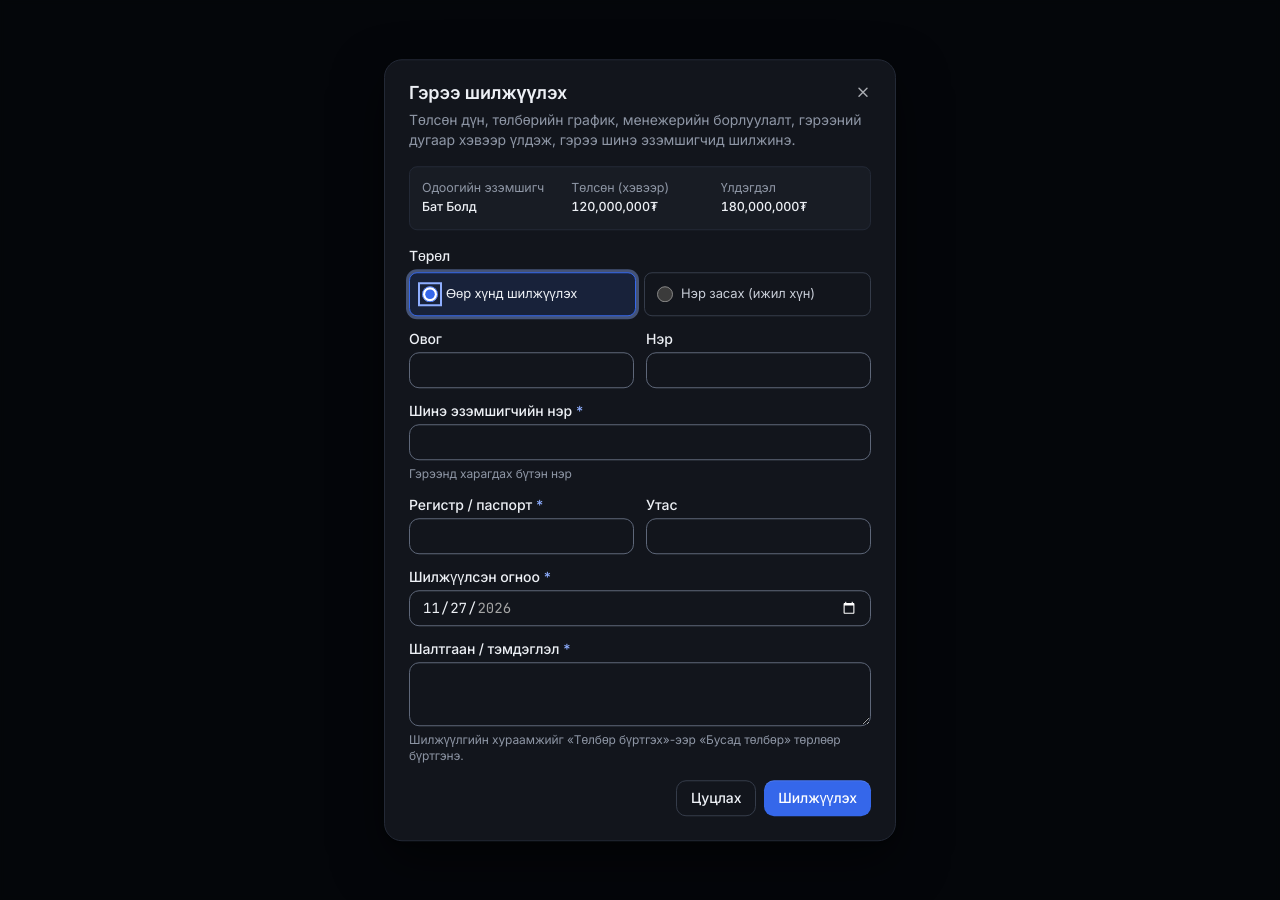
Test: ContractTransferDialog › does not allow a date before the latest holder change
Type "Дорж Сараа" into the field labelled "Шинэ эзэмшигчийн нэр *" at (640, 442), box x1=409 y1=424 x2=871 y2=460
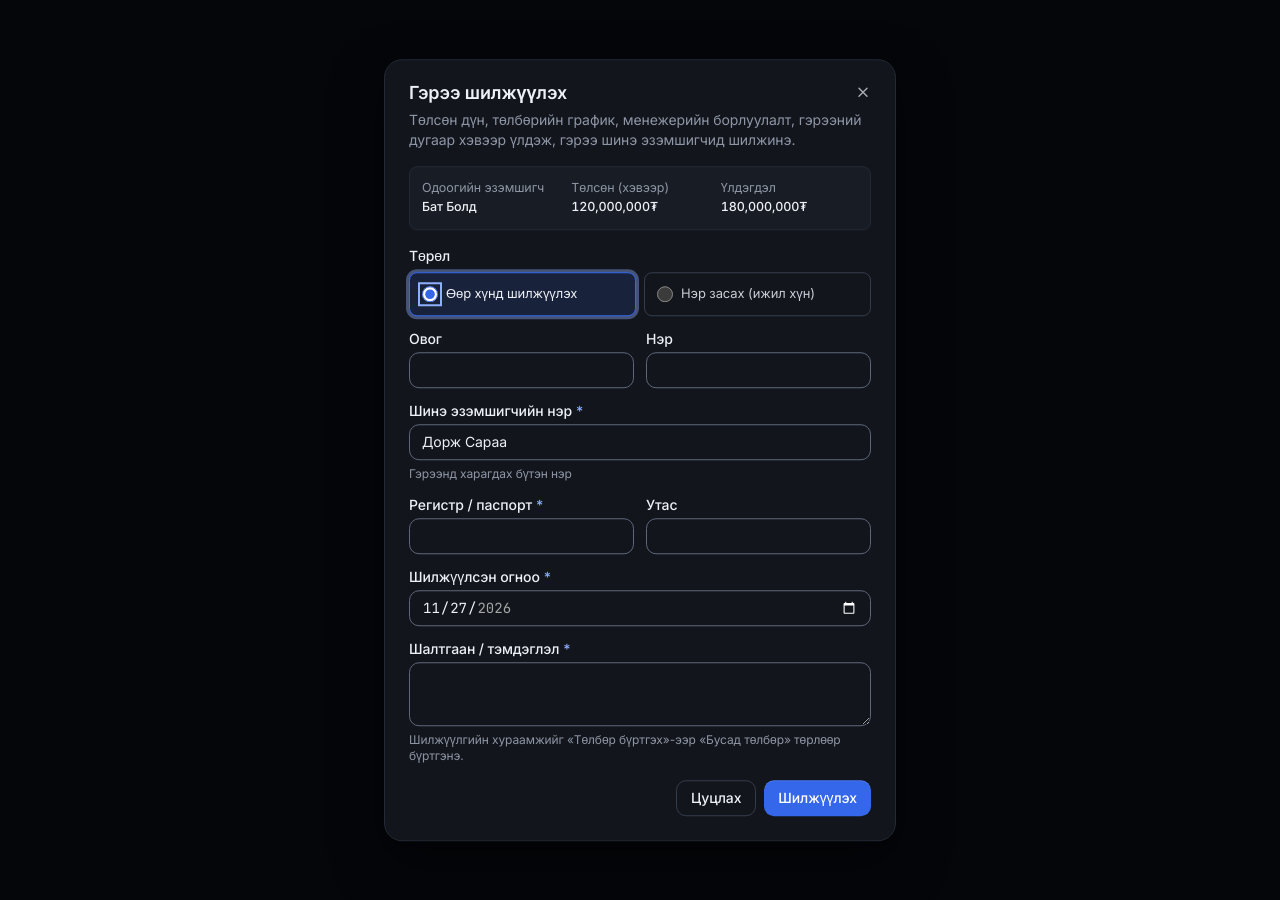
Type "чб88020202" into the field labelled "Регистр / паспорт *" at (522, 536), box x1=409 y1=518 x2=634 y2=554
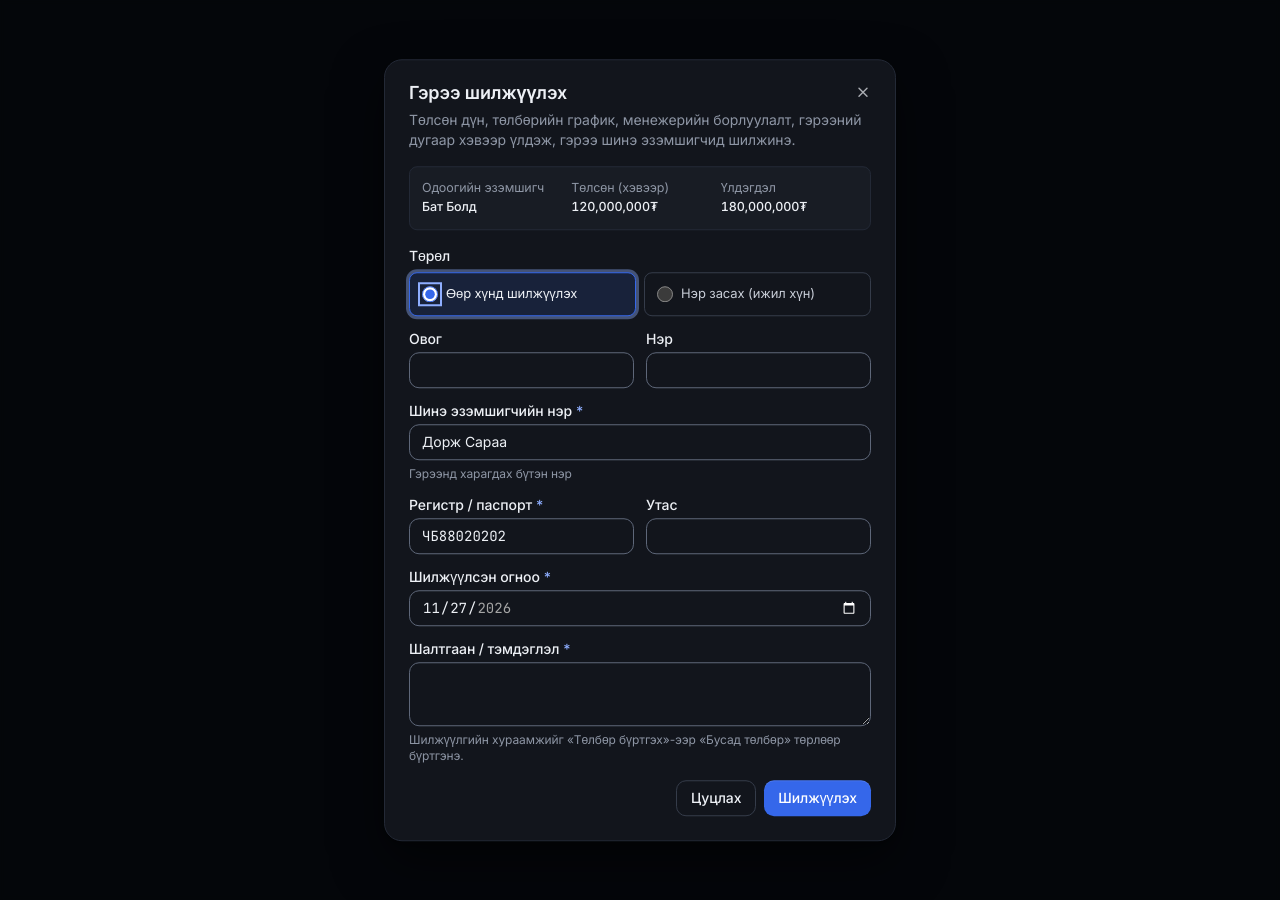
Type "Худалдсан" into the text box labelled "Шалтгаан / тэмдэглэл *" at (640, 694), box x1=409 y1=662 x2=871 y2=726
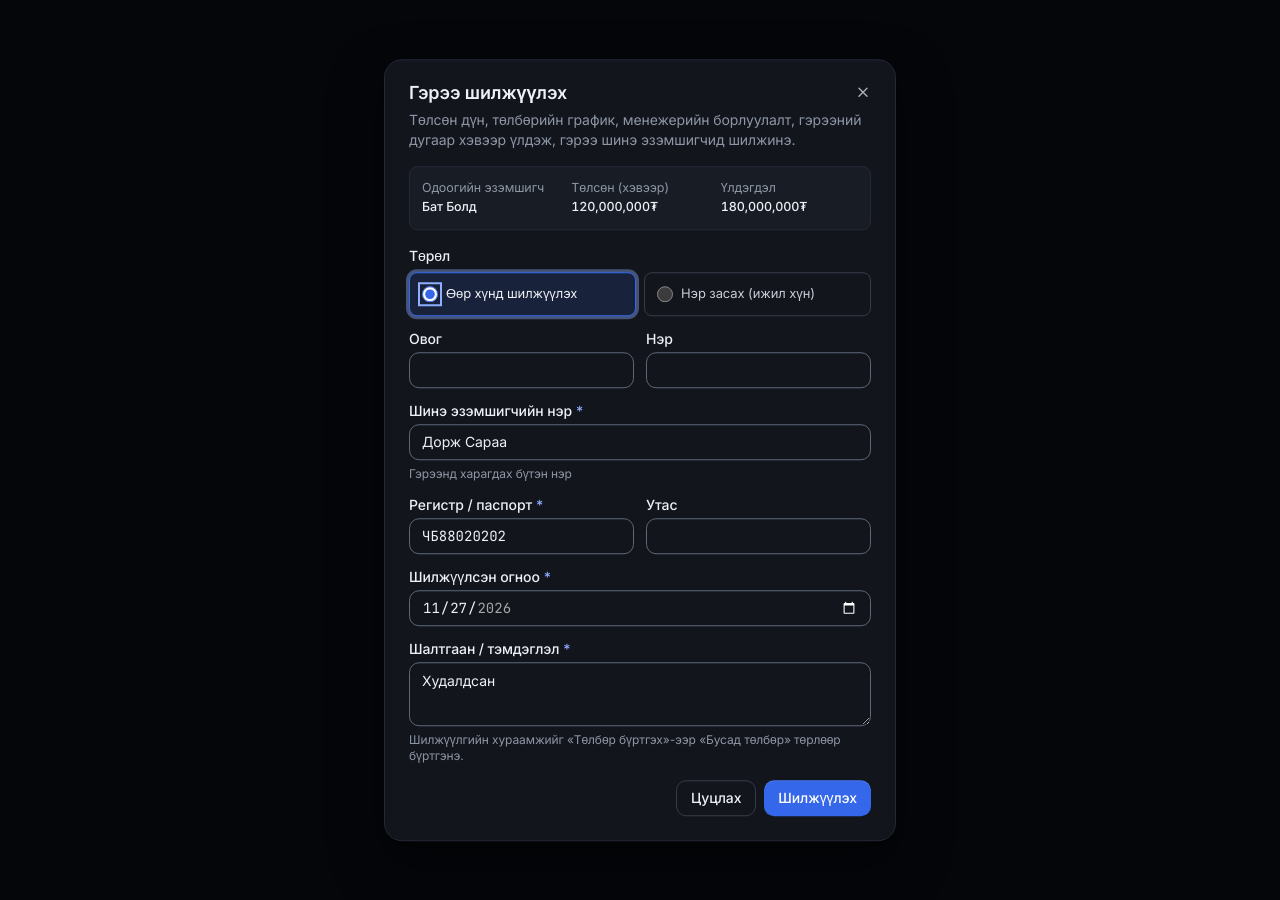
Type "2026-06-01" into the date field labelled "Шилжүүлсэн огноо *" at (640, 608), box x1=409 y1=590 x2=871 y2=626
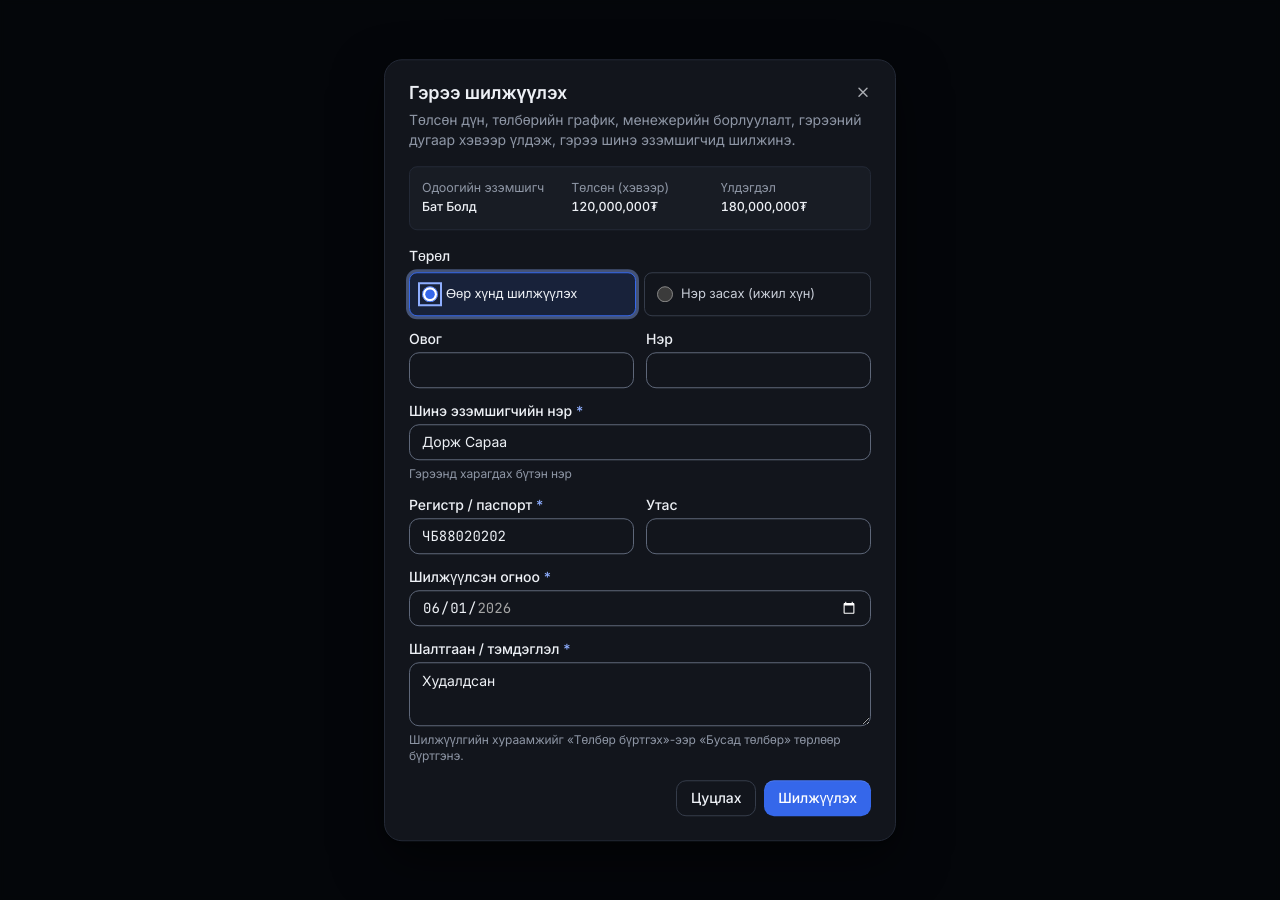
Click the button "Шилжүүлэх" at (818, 798), box x1=764 y1=780 x2=871 y2=816
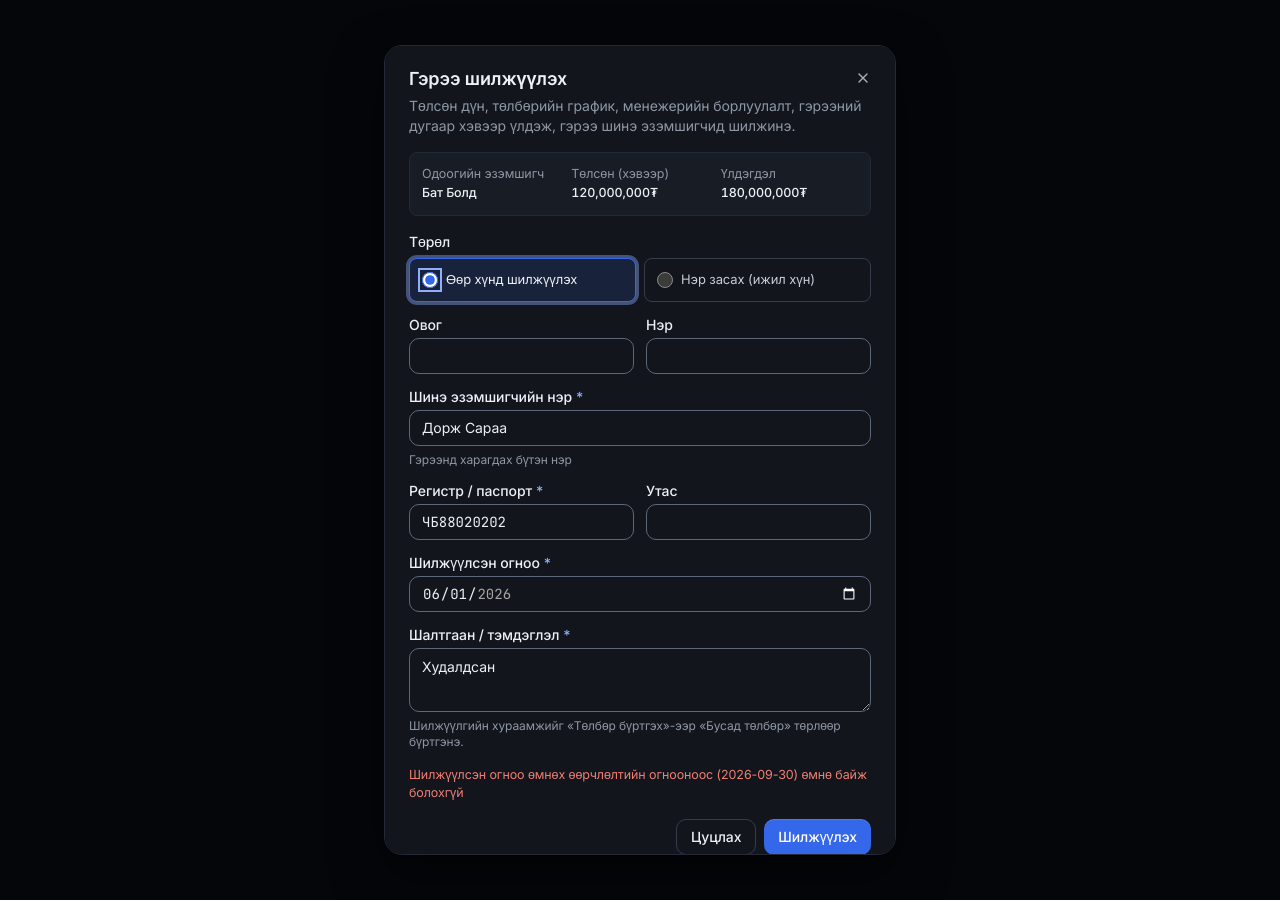
Expected: the message shows "өмнөх өөрчлөлтийн огнооноос (2026-09-30)", x1=409 y1=766 x2=867 y2=800
